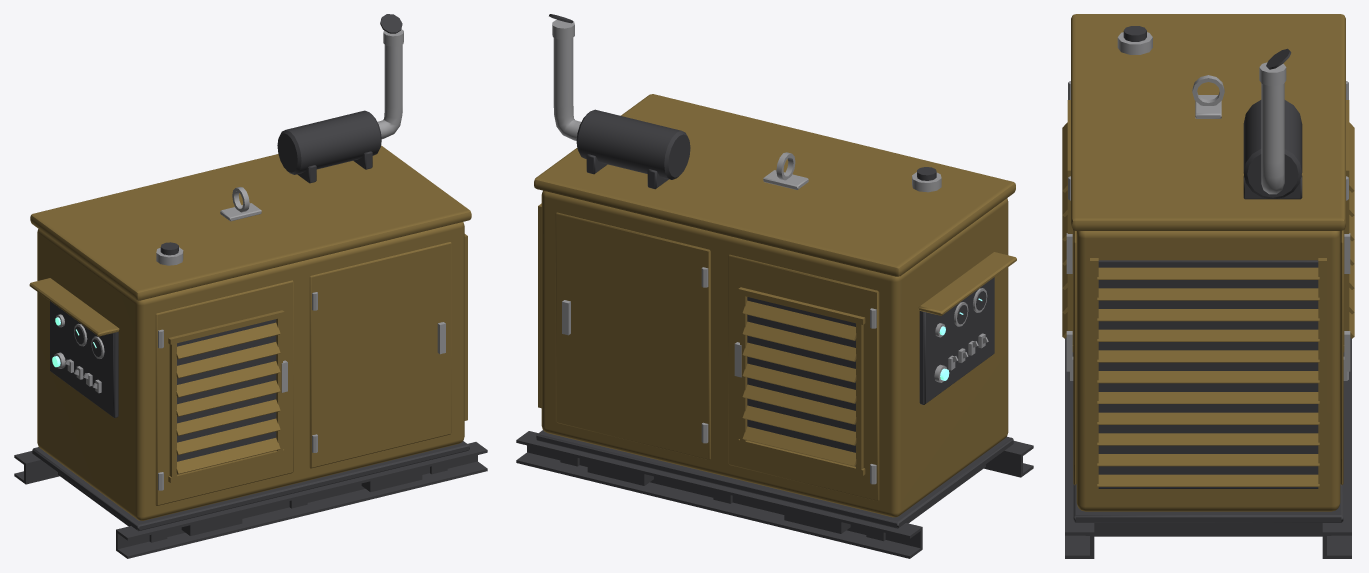
Rendered from kit_generator.glb.
The picture shows the model from 3 angles, left to right: view 1: azimuth 30°, elevation 25°; view 2: azimuth 150°, elevation 25°; view 3: azimuth 270°, elevation 25°; orthographic projection. The views are drawn at different scales.
Visible parts, largest first — view 1: kit_generator_paint, kit_generator_dark_metal, kit_generator_metal; view 2: kit_generator_paint, kit_generator_dark_metal, kit_generator_metal; view 3: kit_generator_paint, kit_generator_dark_metal, kit_generator_metal.
Boxes of the visible parts, box(x1,y1,x2,y2) form: kit_generator_paint: box(29, 145, 471, 520); kit_generator_dark_metal: box(14, 14, 487, 558); kit_generator_metal: box(54, 29, 445, 490); kit_generator_paint: box(534, 94, 1016, 517); kit_generator_dark_metal: box(516, 14, 1033, 558); kit_generator_metal: box(552, 20, 988, 484); kit_generator_paint: box(1062, 14, 1354, 511); kit_generator_dark_metal: box(1065, 26, 1351, 558); kit_generator_metal: box(1066, 32, 1350, 380).
Bounding box in the file's own units: 1.84 × 1.89 × 0.9982.
